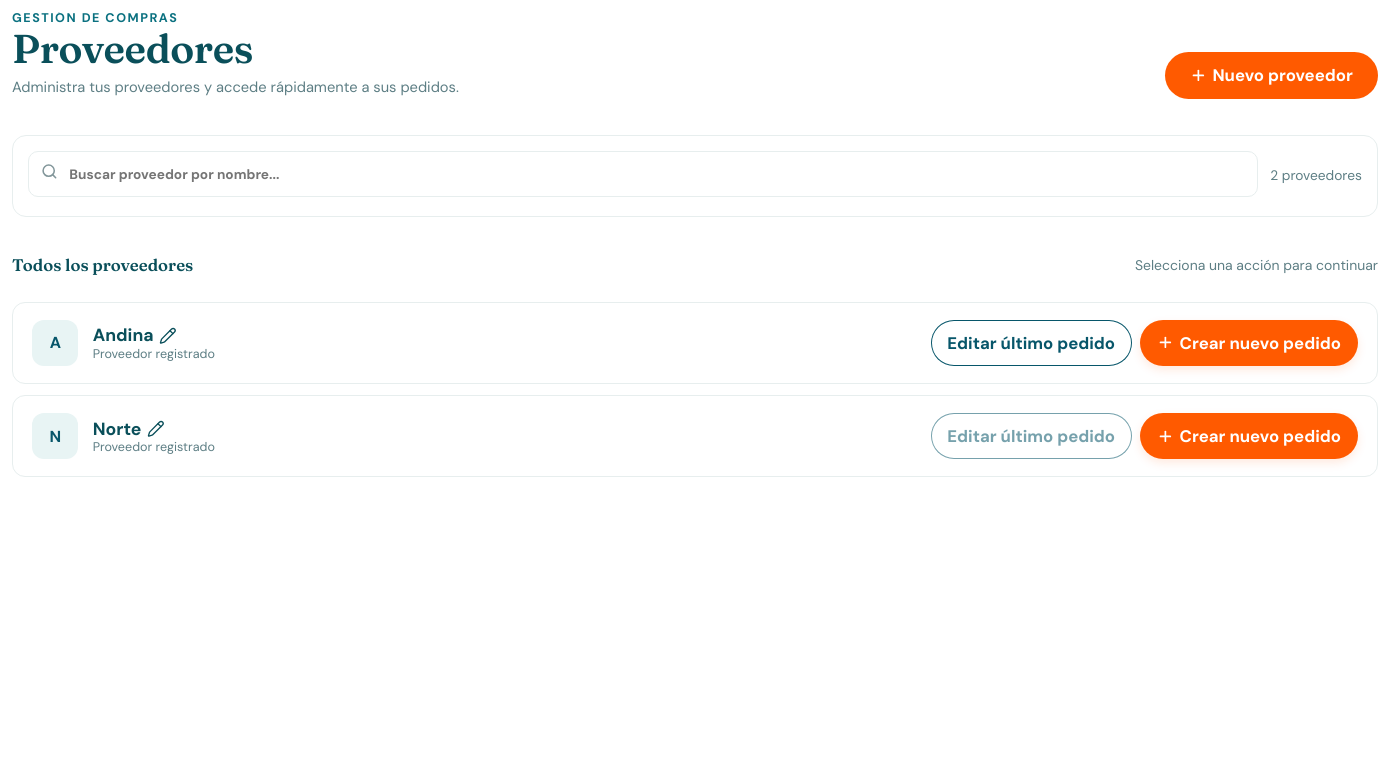
the supplier list creates, renames, and reports a failed load
Earlier steps of the test are not shown.
Later steps or results of the test are not shown.
Click the button named "Editar proveedor" next to "Andina" at coordinates (168, 336), box top-left (157, 324), bottom-right (180, 347)
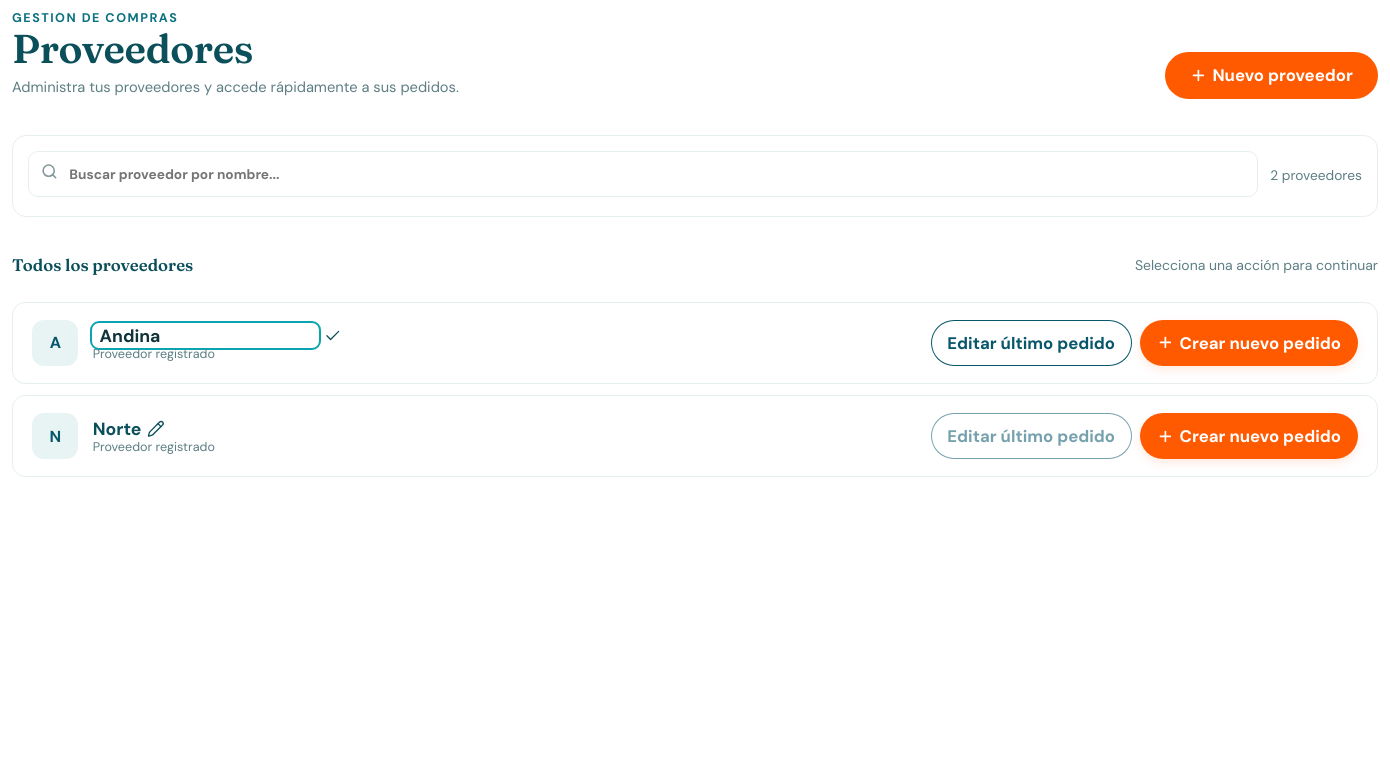
Press Enter in the field showing "Andina", box top-left (93, 324), bottom-right (318, 347)
Click the button named "Guardar proveedor" at coordinates (333, 336), box top-left (322, 324), bottom-right (344, 347)
Replace the text in the field showing "Andina" with "Andina Sur" at coordinates (206, 336), box top-left (93, 324), bottom-right (318, 347)
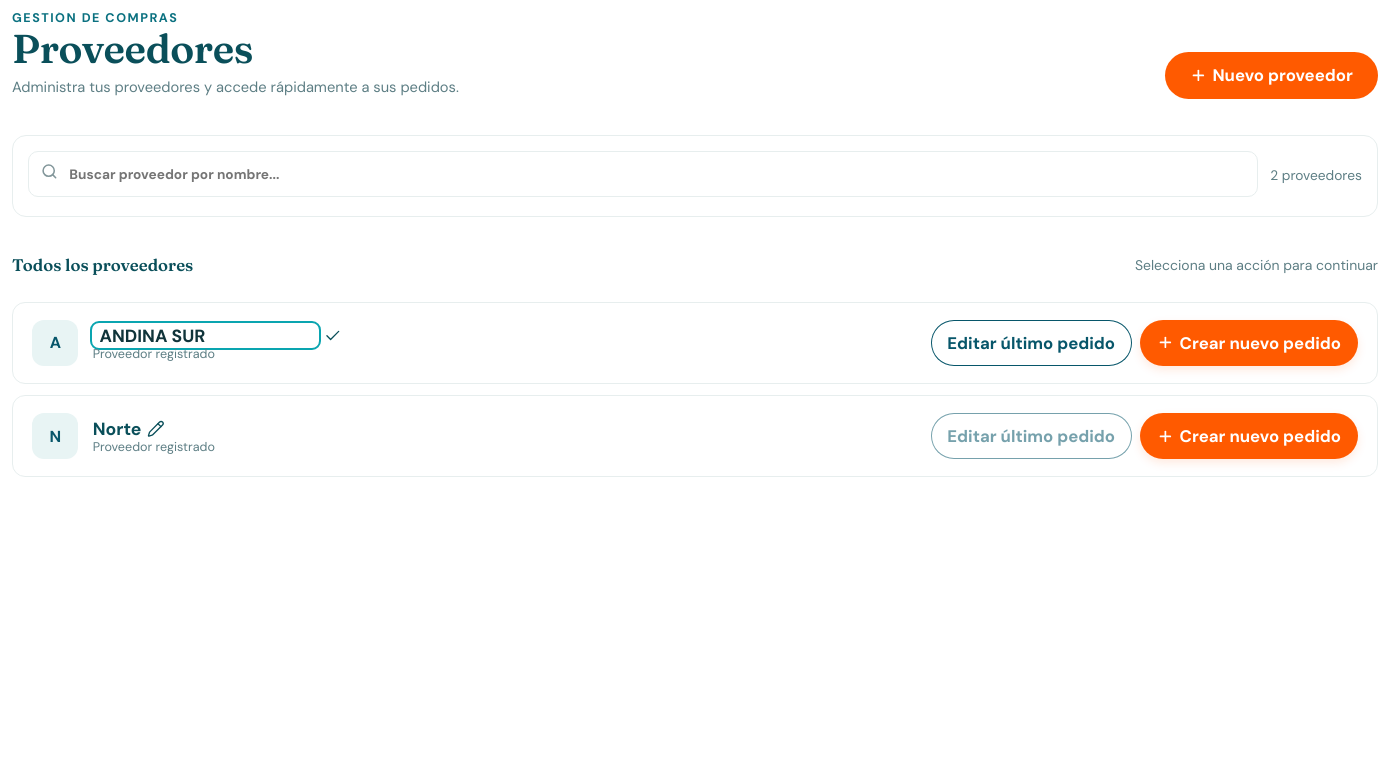
Click the button named "Guardar proveedor" at coordinates (333, 336), box top-left (322, 324), bottom-right (344, 347)
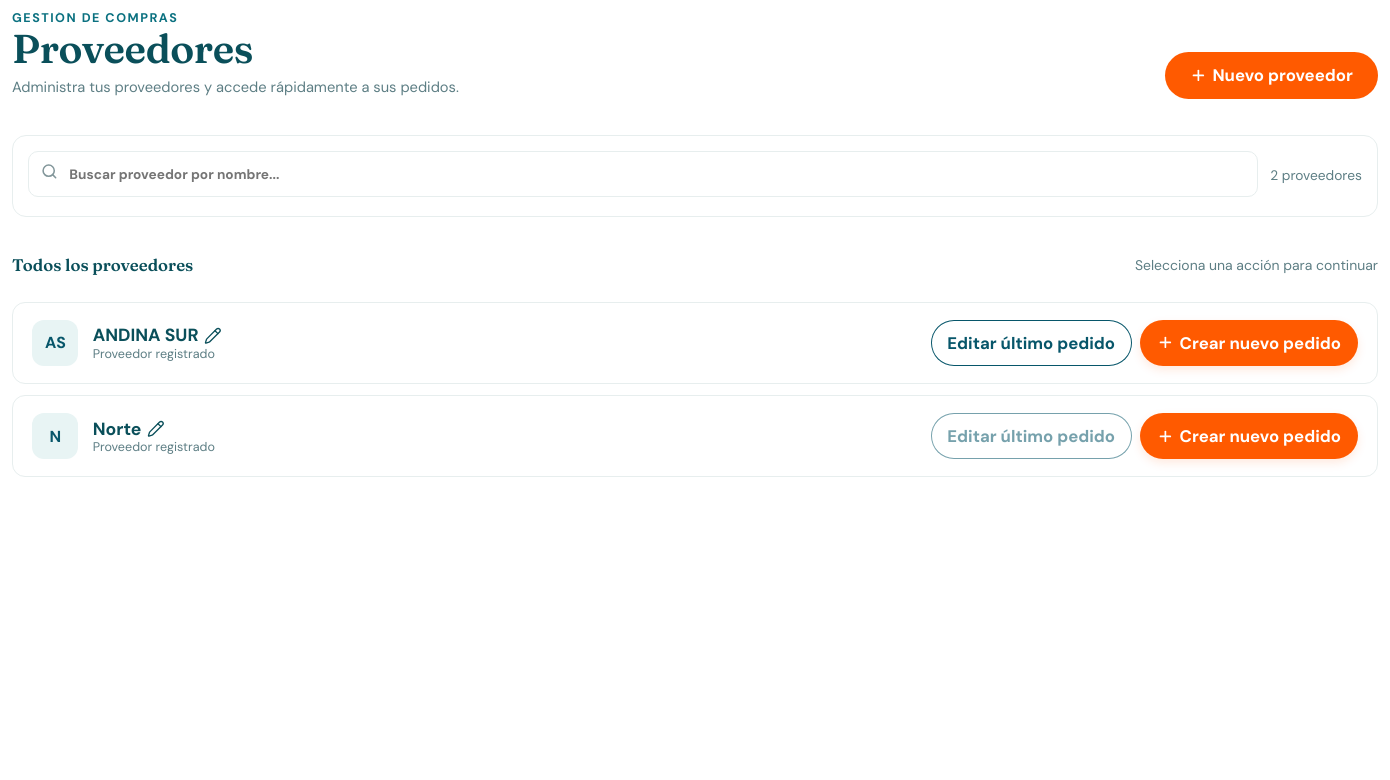
Check: the text "ANDINA SUR" is shown, box top-left (93, 325), bottom-right (198, 346)
Click the button named "Editar proveedor" next to "ANDINA SUR" at coordinates (213, 336), box top-left (202, 324), bottom-right (224, 347)
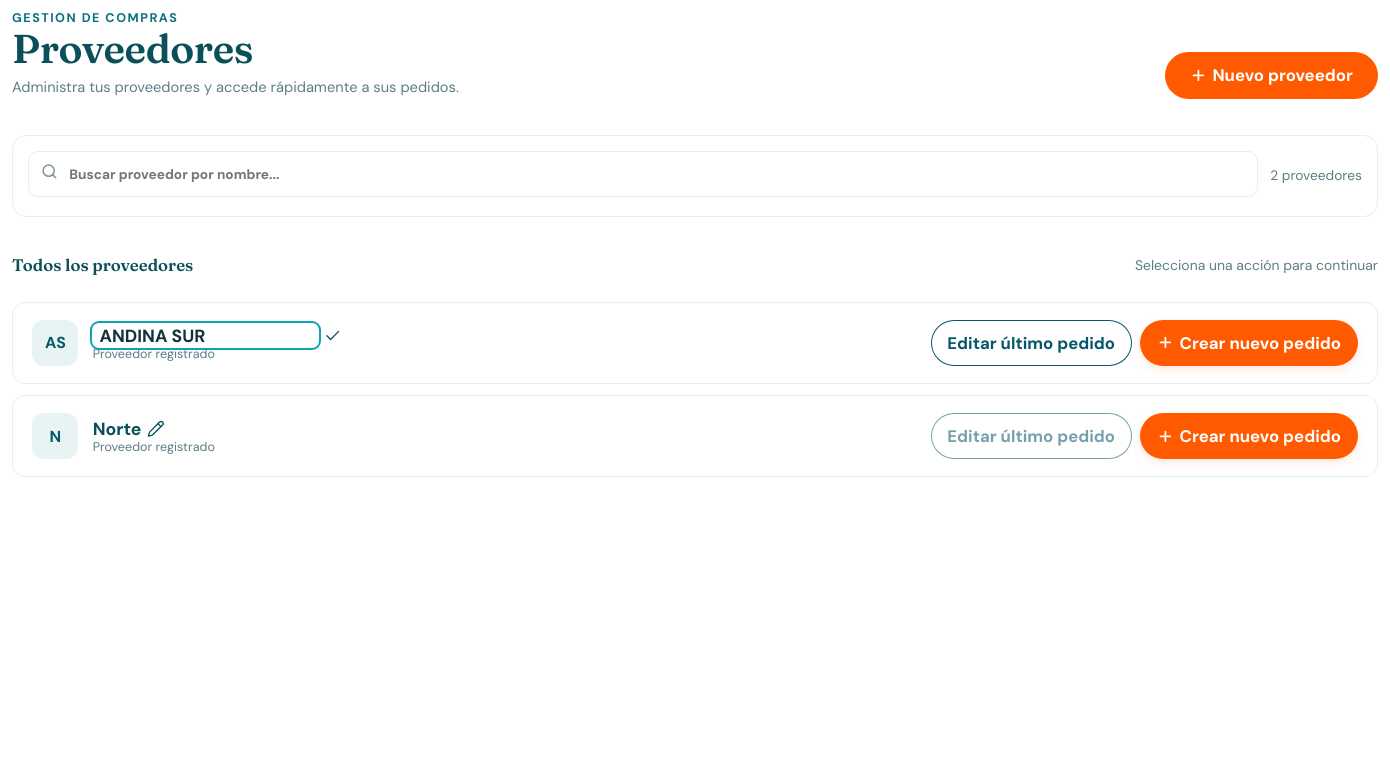
Replace the text in the field showing "ANDINA SUR" with "Malo" at coordinates (206, 336), box top-left (93, 324), bottom-right (318, 347)
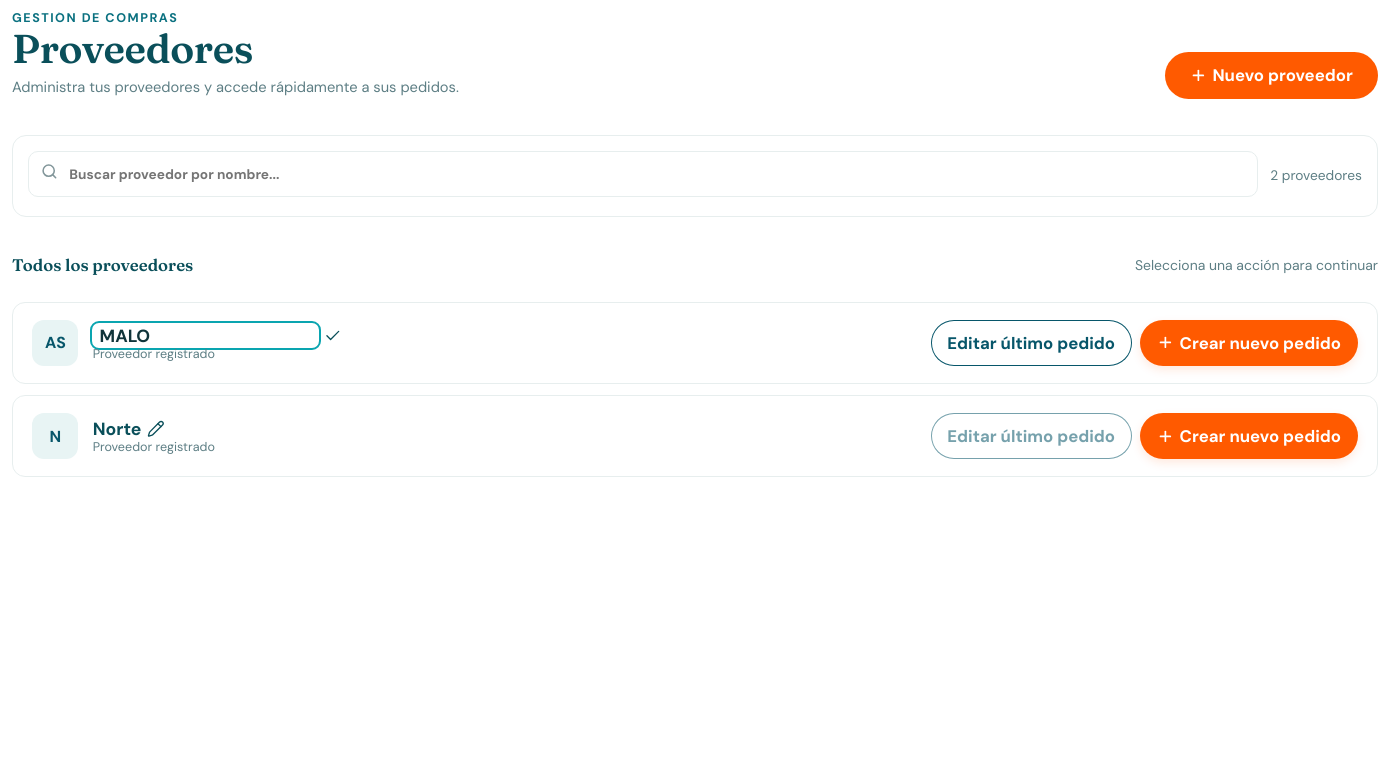
Click the button named "Guardar proveedor" at coordinates (333, 336), box top-left (322, 324), bottom-right (344, 347)
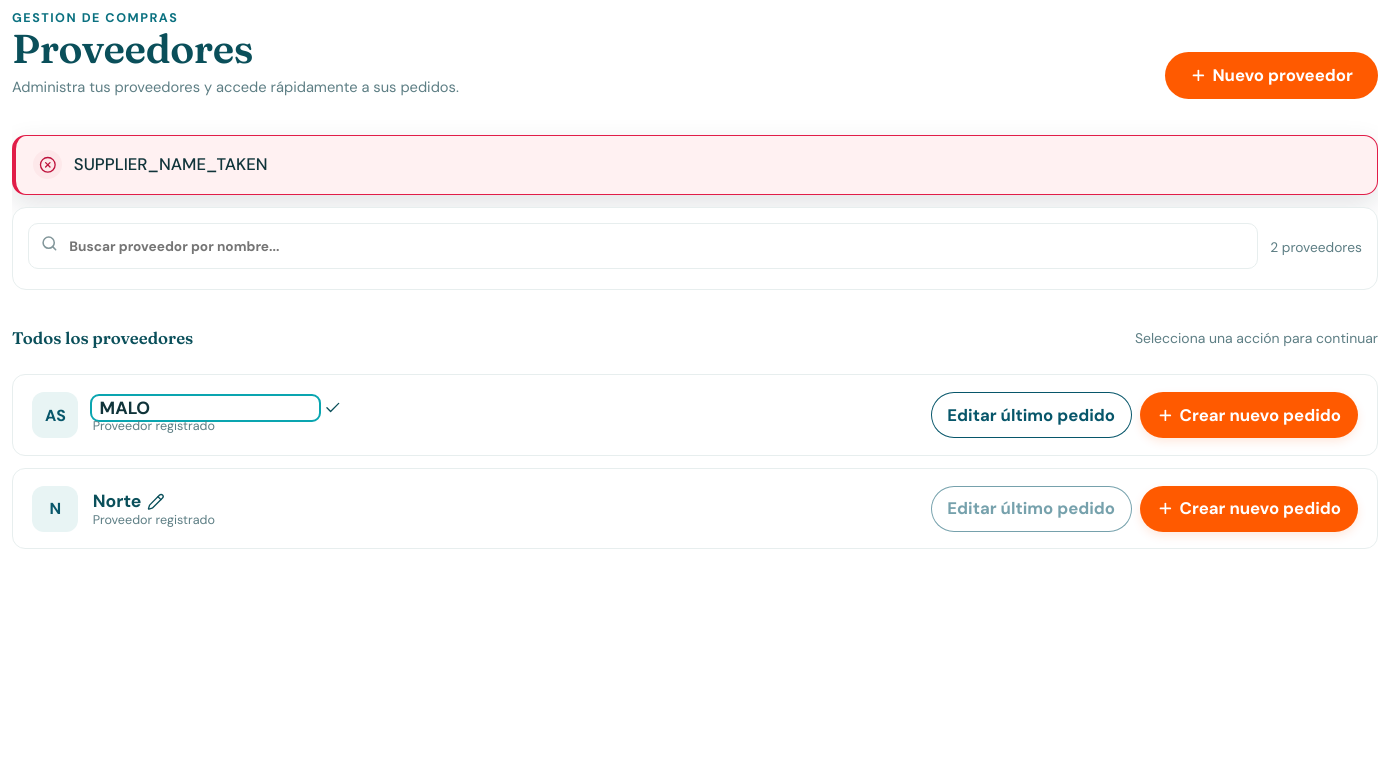
Check: the text "SUPPLIER_NAME_TAKEN" is shown, box top-left (74, 150), bottom-right (268, 176)
